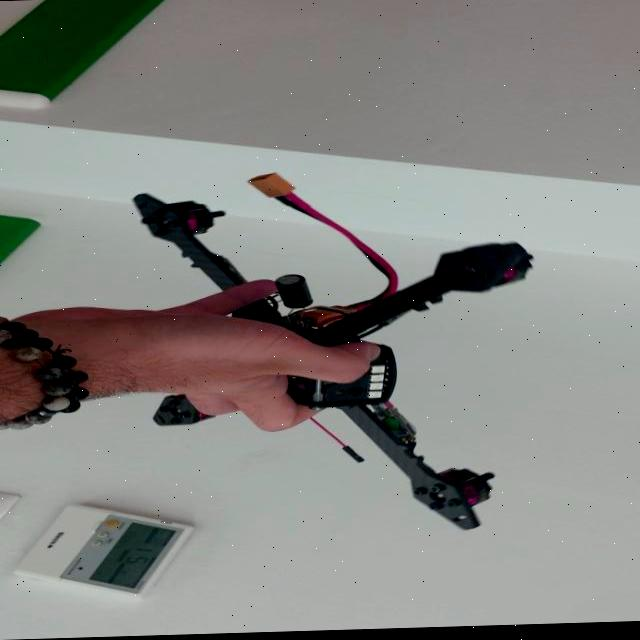drone: (107, 168, 609, 556)
